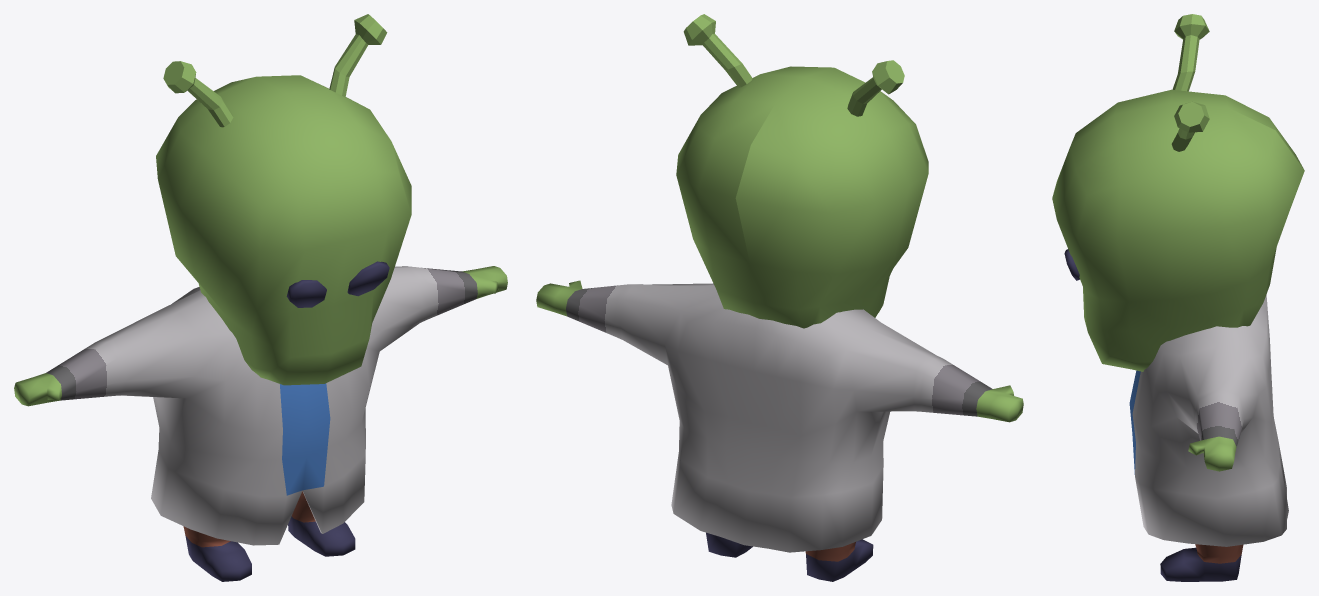
Rendered from scientist_2.fbx.
3 renders of one model, left to right at view 1: azimuth 30°, elevation 25°; view 2: azimuth 150°, elevation 25°; view 3: azimuth 270°, elevation 25°, orthographic. The views are drawn at different scales.
Visible parts, largest first — view 1: Body.001; view 2: Body.001; view 3: Body.001.
Boxes of the visible parts, x1,y1,x2,y2 form: Body.001: [14, 14, 507, 581]; Body.001: [536, 14, 1023, 581]; Body.001: [1052, 14, 1304, 581].
Size of the model in its own units: 3.37 by 3.46 by 1.61.
1 material, 1 textured.
